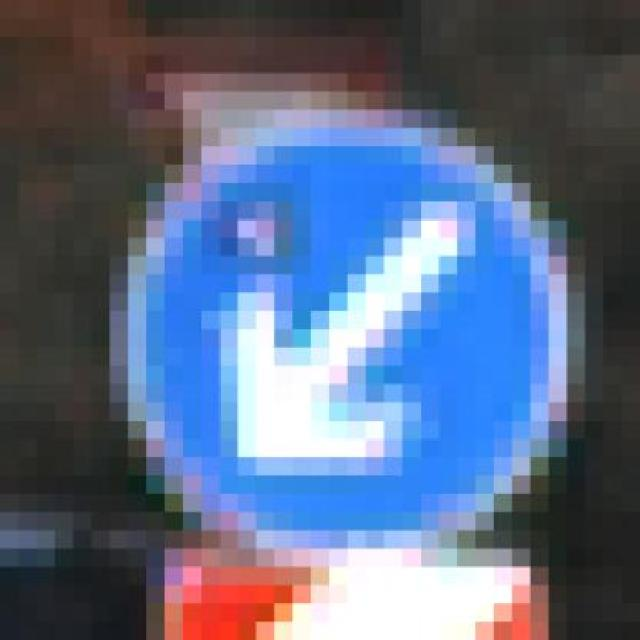Keep-Left: (92, 110, 622, 585)
